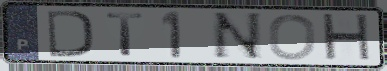1: (160, 10, 184, 61)
D: (44, 8, 95, 58)
H: (320, 12, 375, 64)
N: (209, 11, 265, 61)
O: (267, 13, 318, 62)
T: (104, 12, 147, 58)
